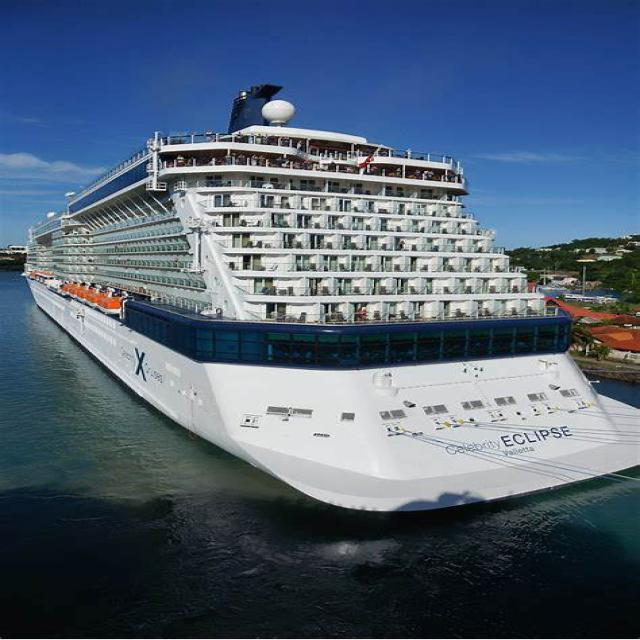PassengerShip: (0, 116, 640, 497)
